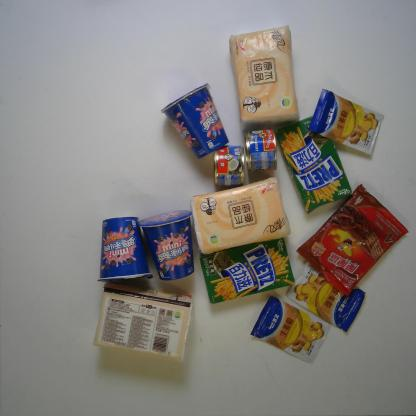Canned Food: (242, 128, 278, 172), (212, 144, 244, 187)
Dessert: (297, 183, 408, 294), (275, 112, 353, 214), (198, 237, 295, 305), (159, 81, 230, 161), (139, 210, 196, 280), (95, 215, 153, 283)
Seasoner: (285, 260, 367, 332), (249, 296, 330, 364), (310, 87, 385, 157)
Tissue: (189, 178, 292, 256), (92, 282, 192, 361), (228, 26, 301, 124)
